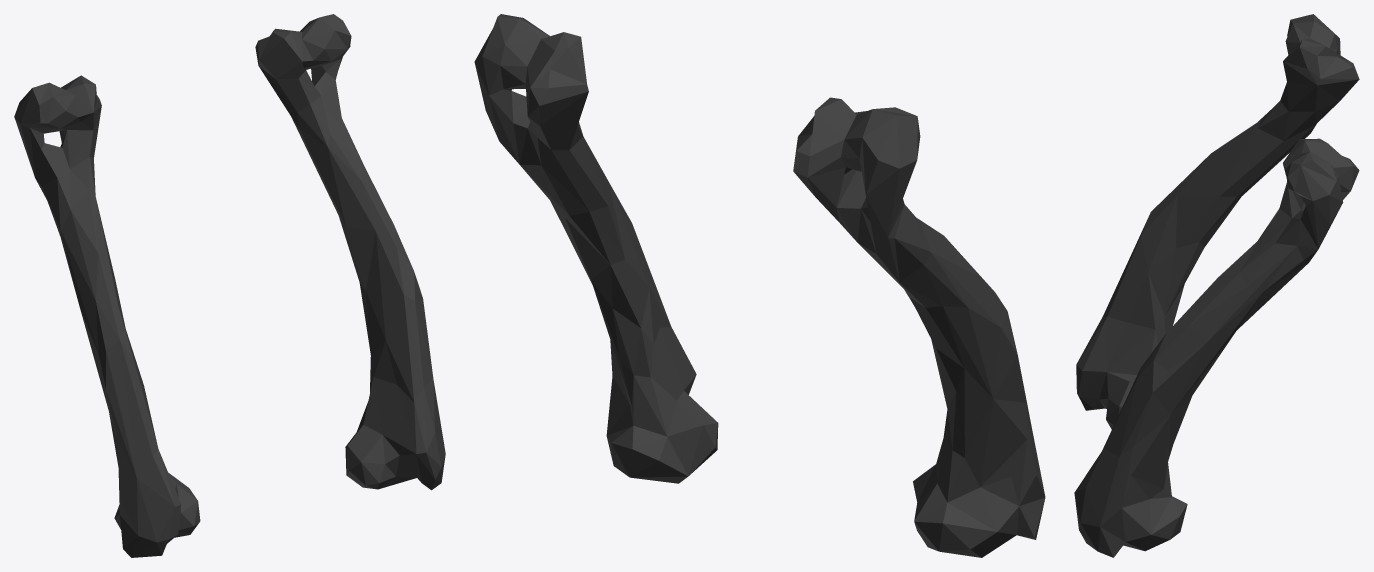
Rendered from Humerus.glb.
The picture shows the model from 3 angles, left to right: view 1: azimuth 30°, elevation 25°; view 2: azimuth 150°, elevation 25°; view 3: azimuth 270°, elevation 25°; orthographic projection. The views are drawn at different scales.
Visible parts, largest first — view 1: Humerus; view 2: Humerus; view 3: Humerus.
Boxes of the visible parts, <box> form: Humerus: <box>14,14,445,557</box>; Humerus: <box>474,14,1045,557</box>; Humerus: <box>1074,14,1359,557</box>.
Size of the model in its own units: 0.00427 by 0.00498 by 0.00321.
Materials: 1 (1 with a texture image).
